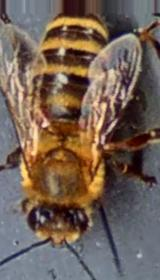varroa_mite: (26, 107, 55, 129)
